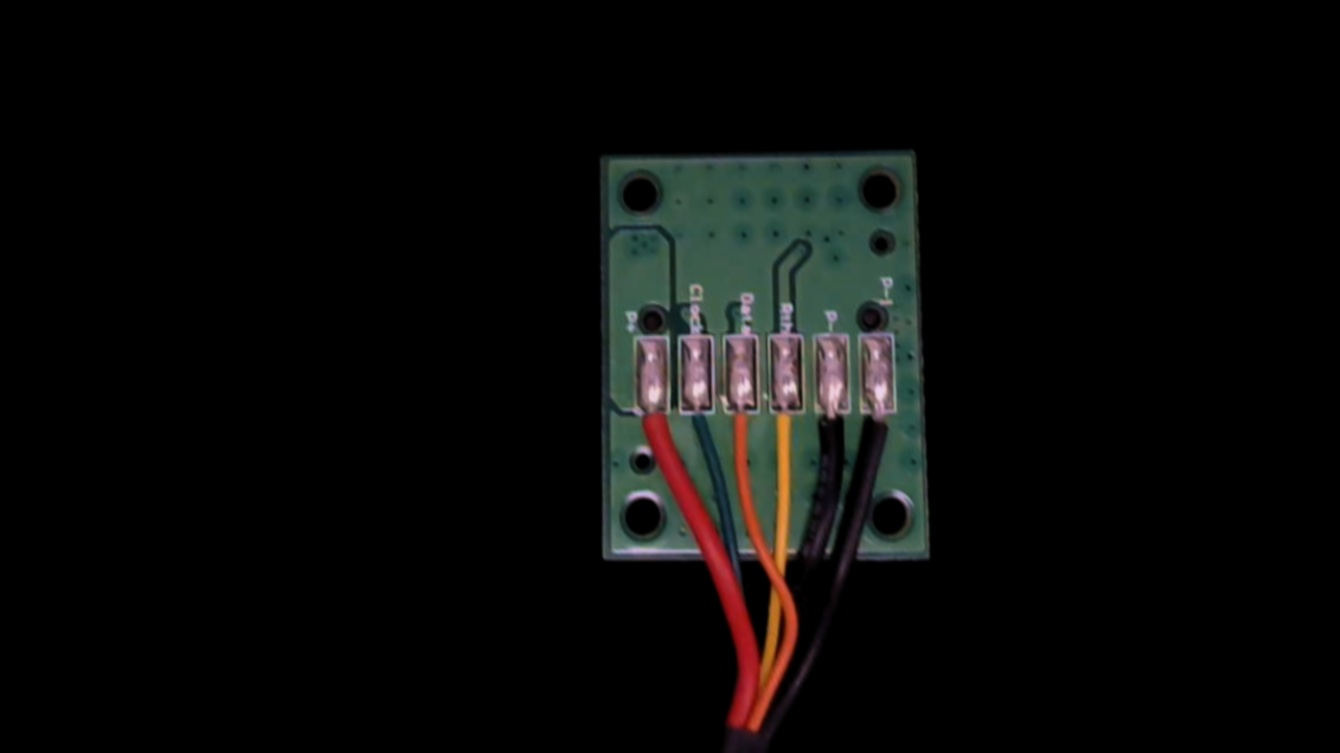Black: (811, 390, 854, 482)
Black1: (865, 390, 903, 478)
Green: (680, 391, 715, 468)
Orange: (724, 391, 763, 481)
Red: (635, 392, 672, 476)
Yellow: (764, 392, 806, 485)
